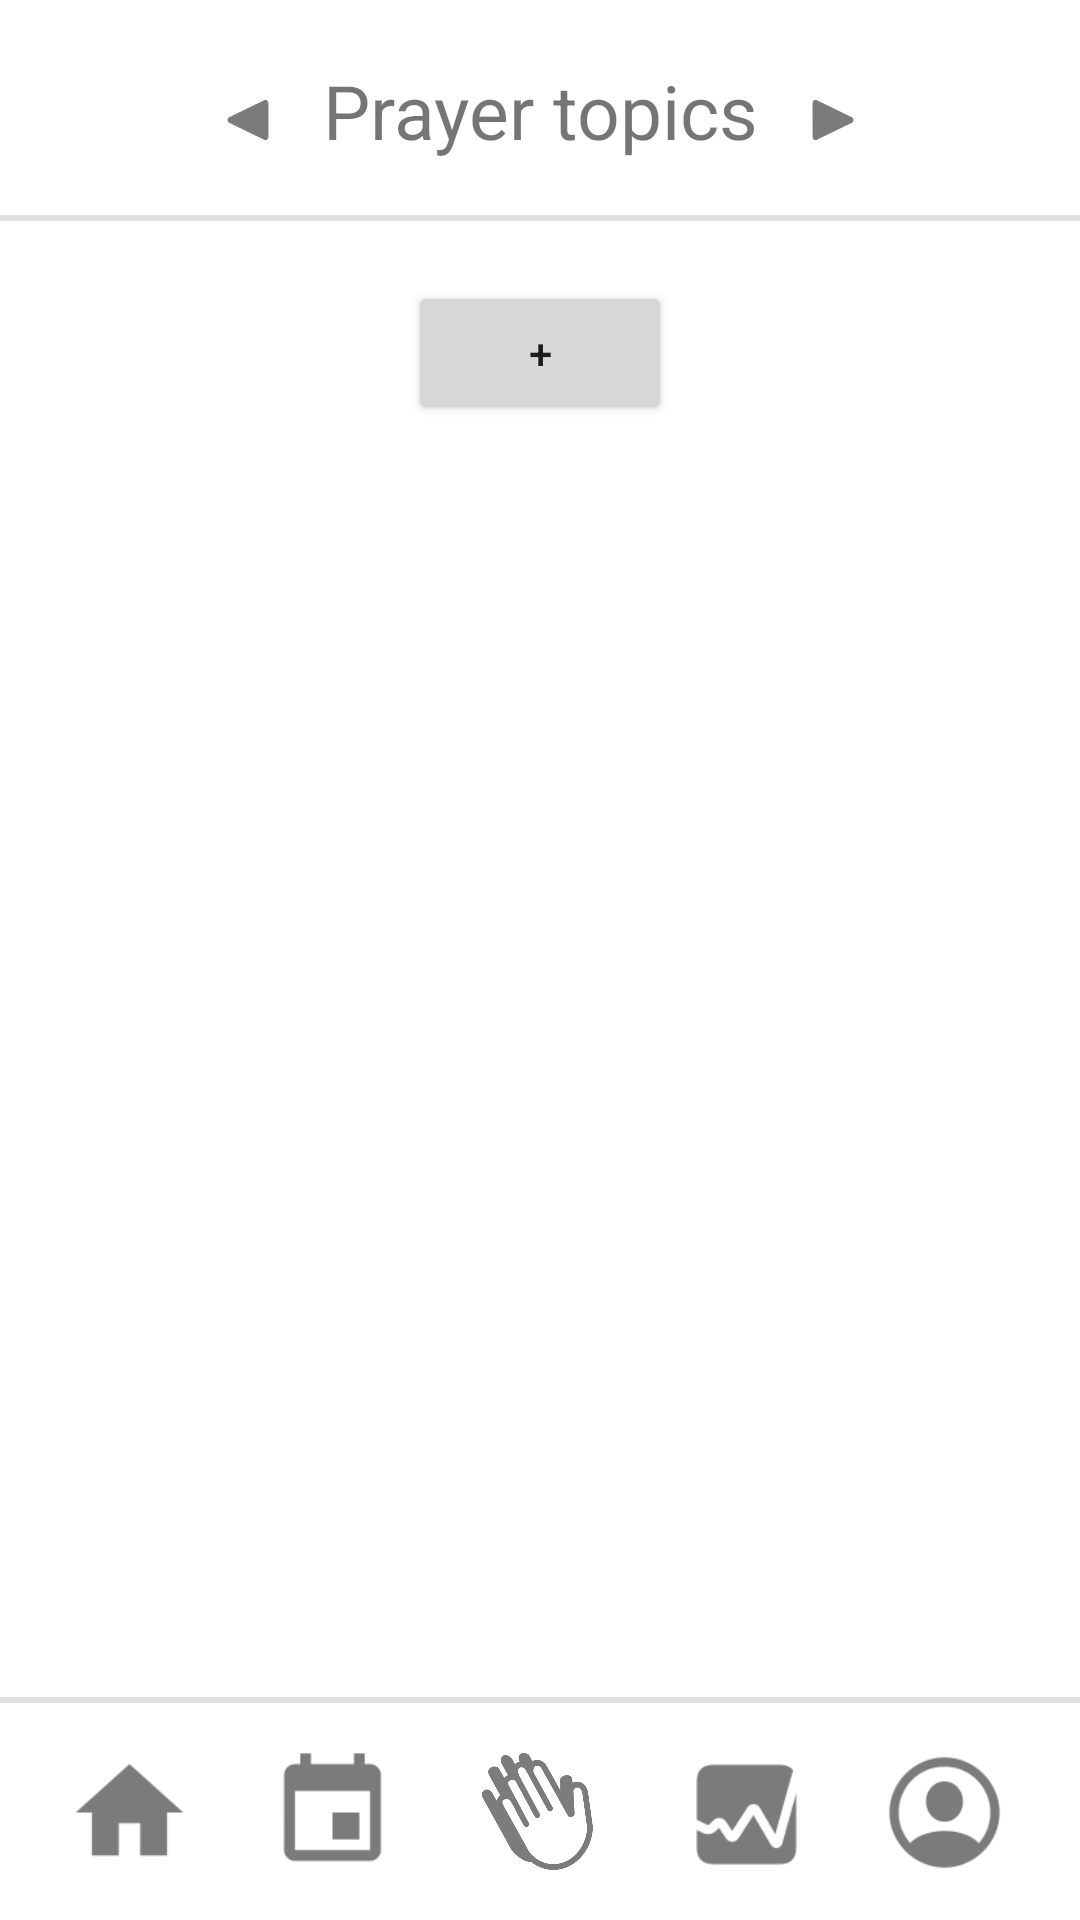

Named icons in this screenshot (1080×1920) and their centers, (x=x, y=y):
calendarbutton: (x=332, y=1807)
homebutton: (x=129, y=1810)
left button: (x=248, y=120)
mypagebutton: (x=944, y=1812)
praybutton: (x=537, y=1811)
right button: (x=833, y=120)
summarybutton: (x=746, y=1814)
